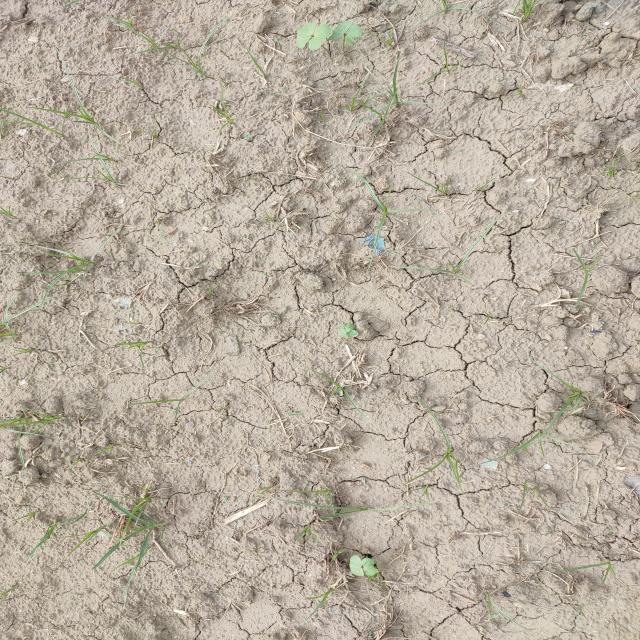seedling_s2: (308, 23, 331, 50), (295, 22, 316, 48), (327, 21, 351, 40), (344, 25, 362, 47), (350, 555, 364, 577), (362, 557, 376, 576), (339, 330, 358, 338), (340, 323, 355, 330)
